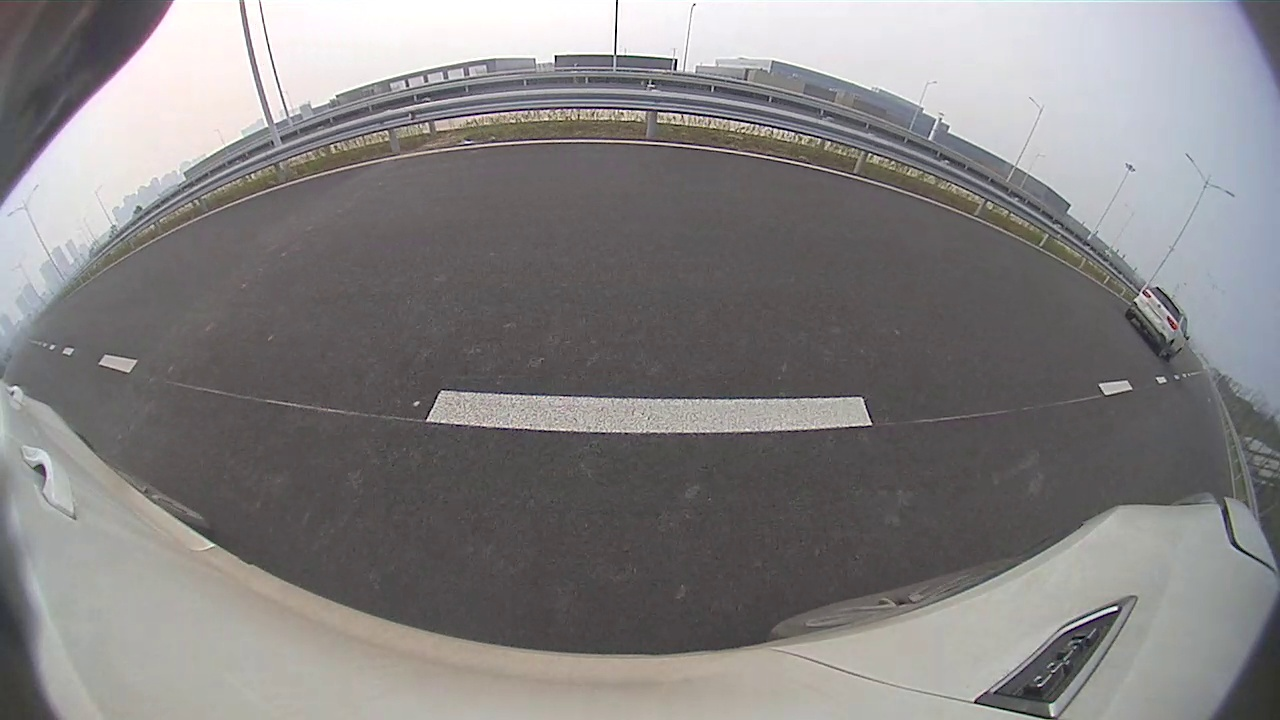car: (619, 126, 725, 209)
rear: (625, 185, 638, 208)
